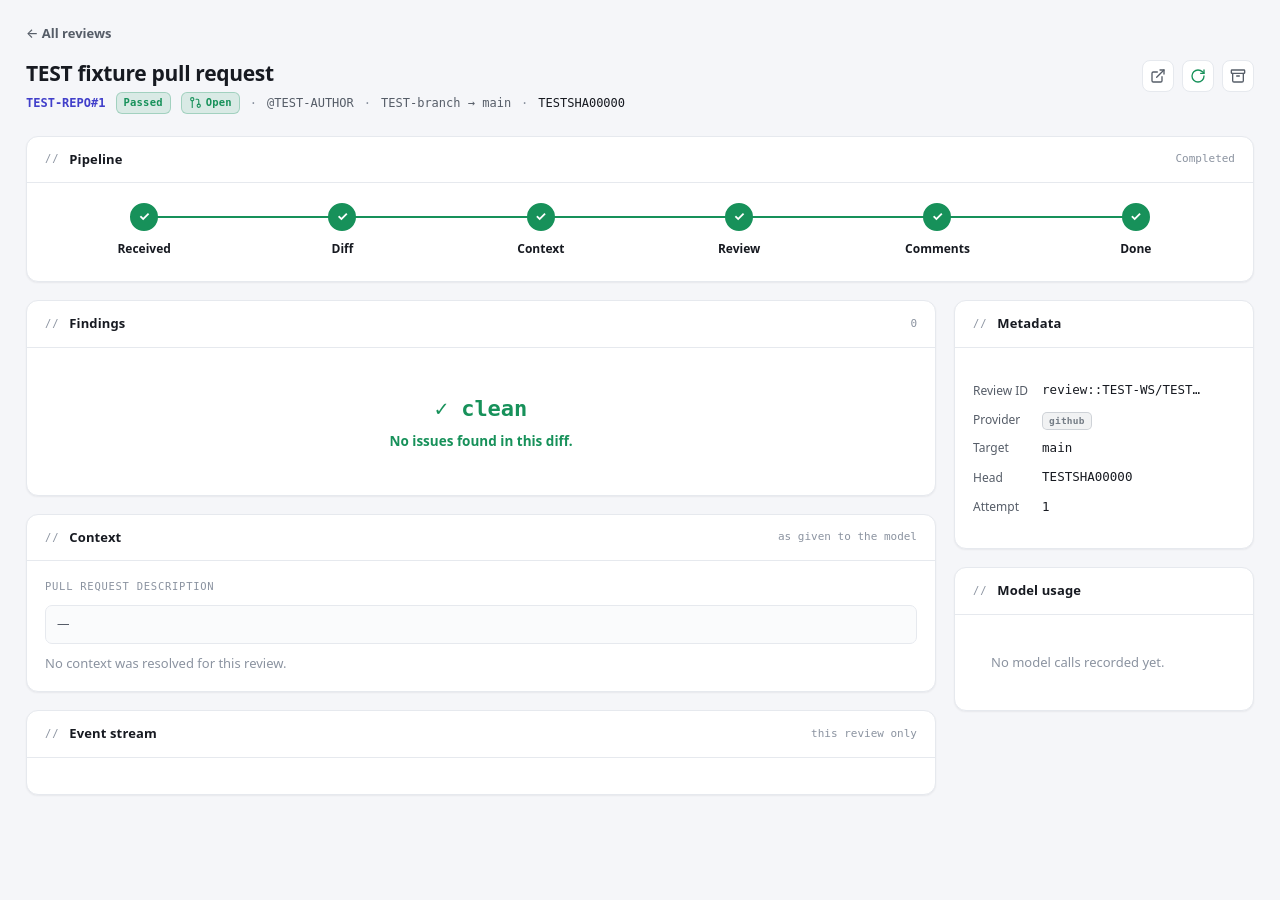
Test: ReviewDetail — archive and unarchive › surfaces the refusal the server actually sent
Click the button named "archive review" at (1238, 76), box [1222,60,1254,92]
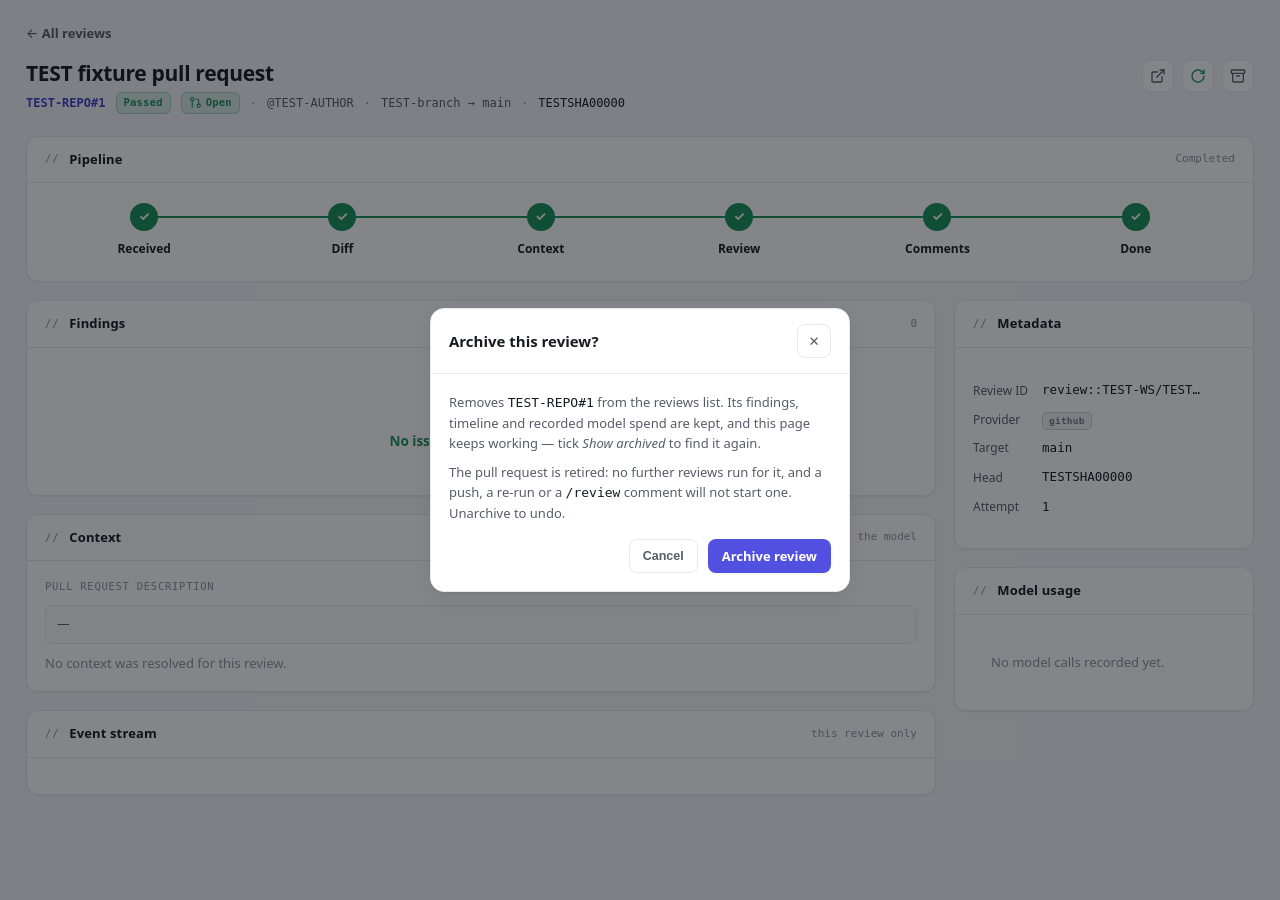
Click the button "Archive review" at (769, 556), box [708,539,831,573]
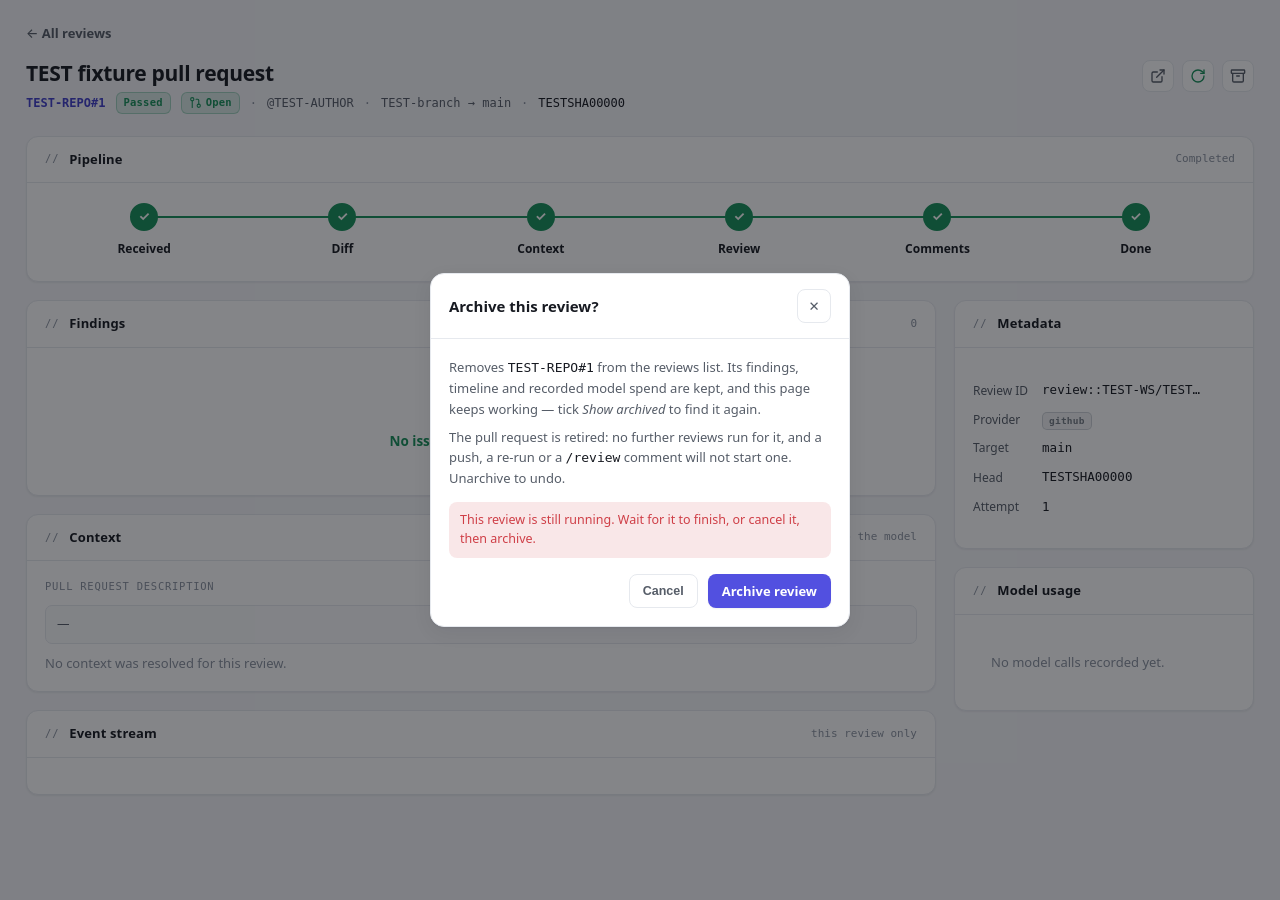
Result: the text "still running" is shown at [460,511,800,547]
